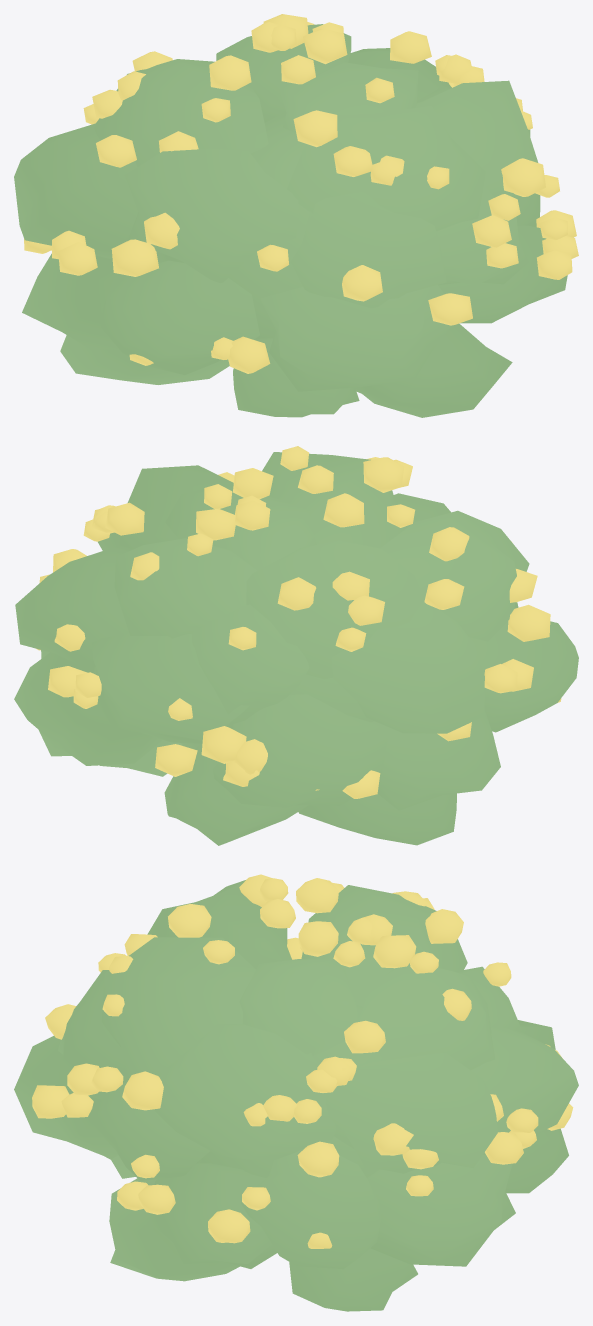
The model's file is Blender_Gorse_1.glb.
3 views of the same model, one above another, from view 1: azimuth 30°, elevation 25°; view 2: azimuth 150°, elevation 25°; view 3: azimuth 270°, elevation 25° (orthographic). The views are drawn at different scales.
Visible parts, largest first — view 1: Blender_Gorse_1; view 2: Blender_Gorse_1; view 3: Blender_Gorse_1.
Boxes of the visible parts, x1=… form: Blender_Gorse_1: x1=14, y1=14, x2=578, y2=417; Blender_Gorse_1: x1=14, y1=446, x2=578, y2=845; Blender_Gorse_1: x1=14, y1=874, x2=578, y2=1311.
Size of the model in its own units: 2.61 by 1.68 by 2.58.
